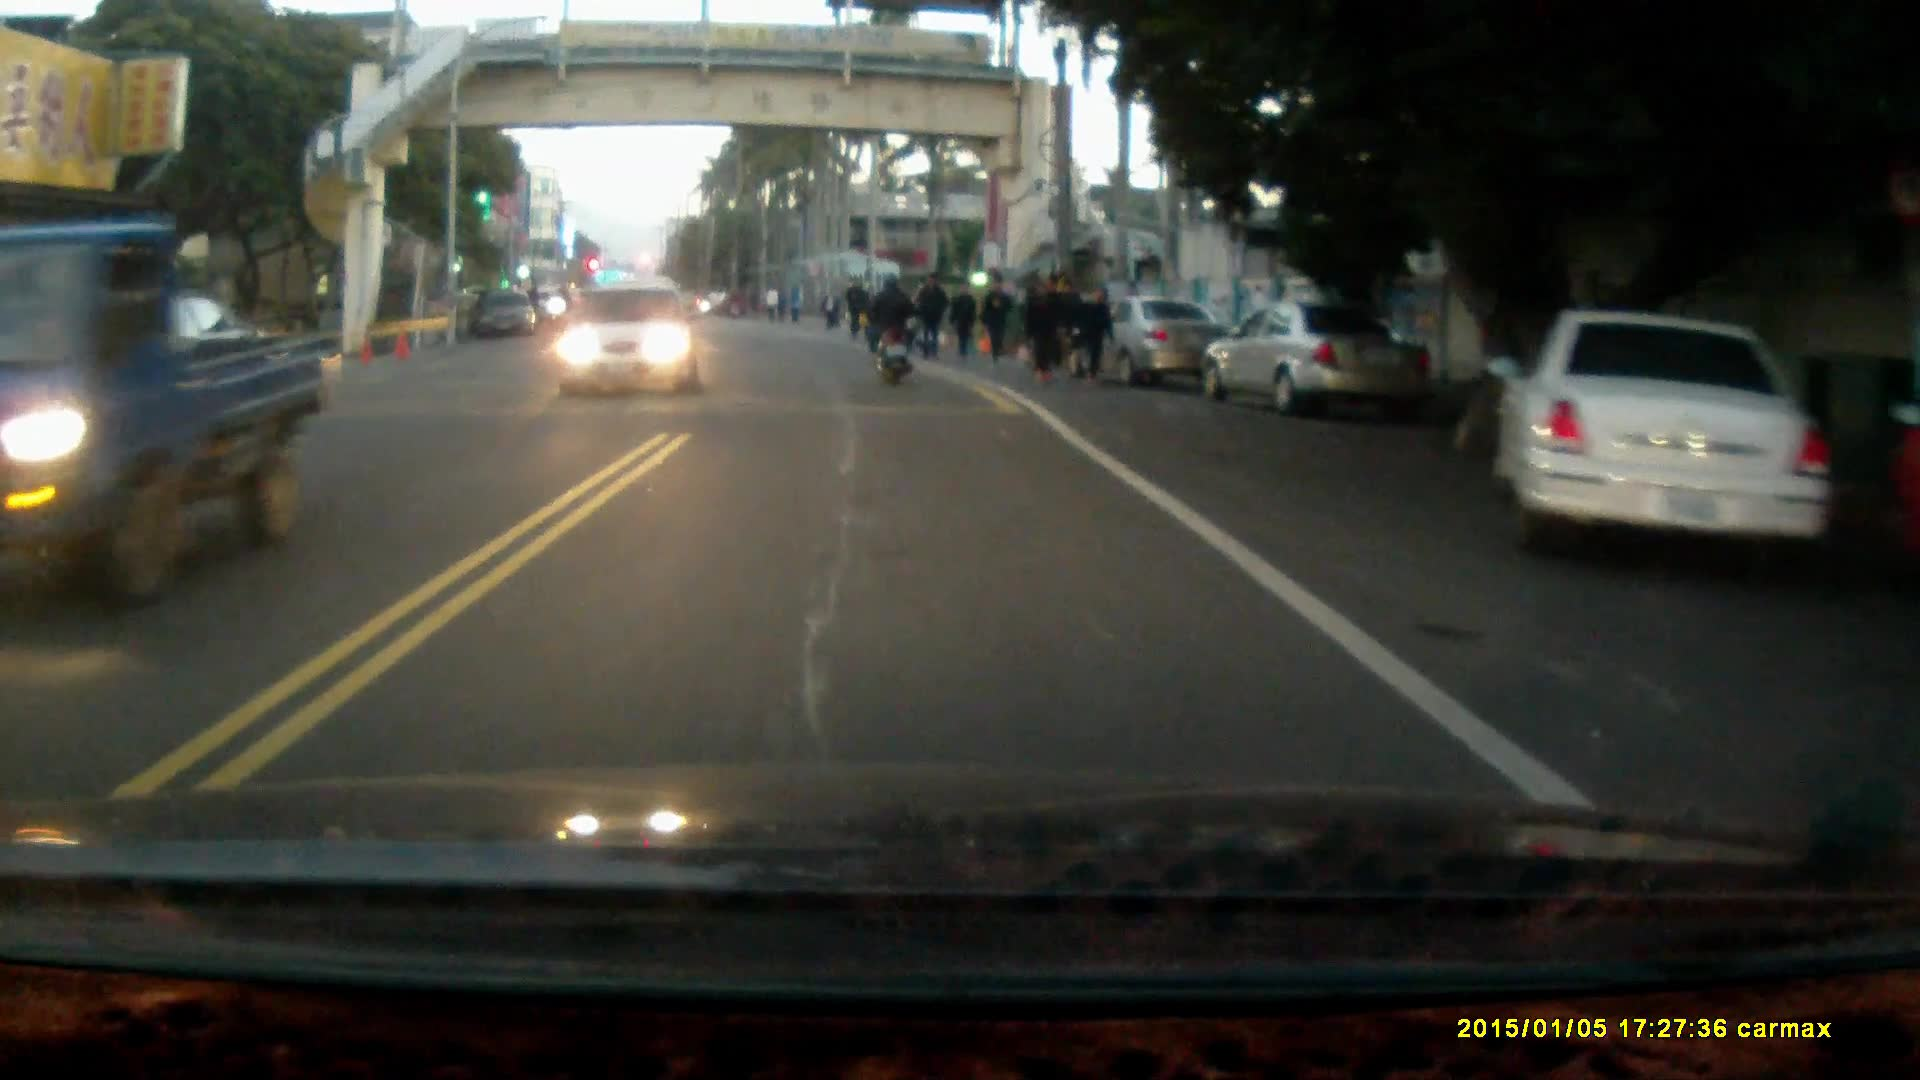pedestrian: (1021, 274, 1055, 381), (1041, 271, 1074, 376), (1079, 285, 1114, 380), (980, 268, 1014, 362), (914, 270, 948, 359), (948, 277, 982, 361)
rider: (862, 273, 918, 390)
vehicle: (1, 220, 328, 607), (1488, 309, 1845, 586), (1205, 297, 1426, 418), (555, 279, 705, 399), (1106, 295, 1238, 394)
